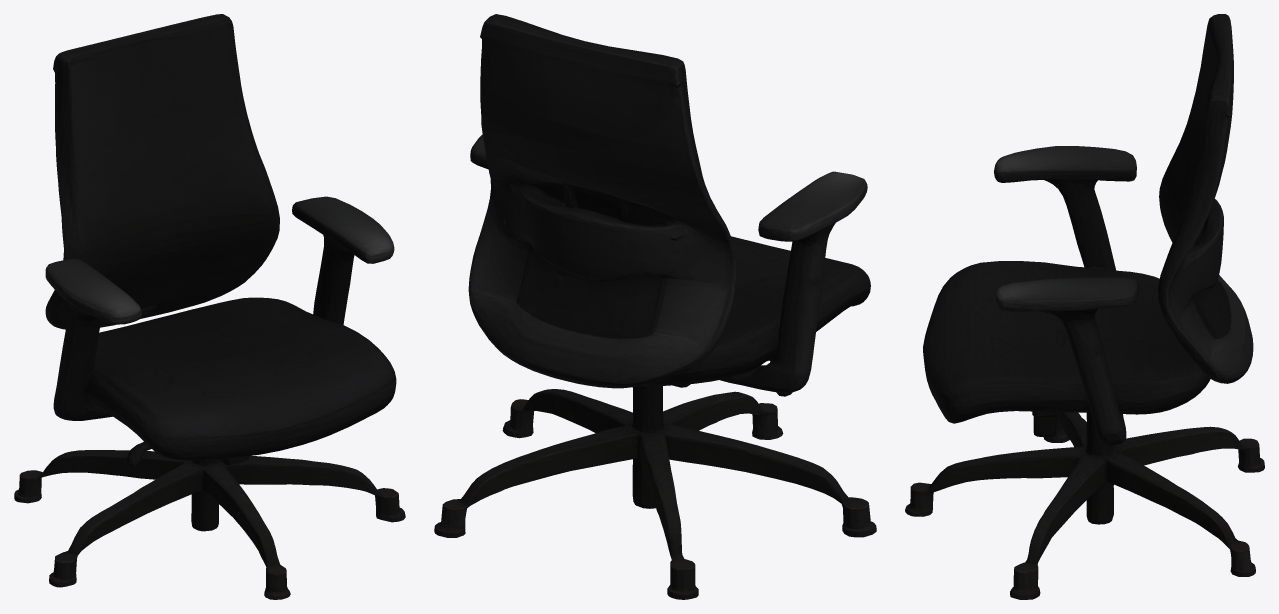
3 views of the same model, side by side, from view 1: azimuth 30°, elevation 25°; view 2: azimuth 150°, elevation 25°; view 3: azimuth 270°, elevation 25° (orthographic). The views are drawn at different scales.
Parts seen in each view (by area): view 1: world; view 2: world; view 3: world.
Boxes of the visible parts, x1,y1,x2,y2 form: world: (14, 14, 405, 599); world: (434, 14, 876, 599); world: (905, 14, 1264, 599).
Size of the model in its own units: 0.7861 by 1 by 0.7038.
1 material, 1 textured.
